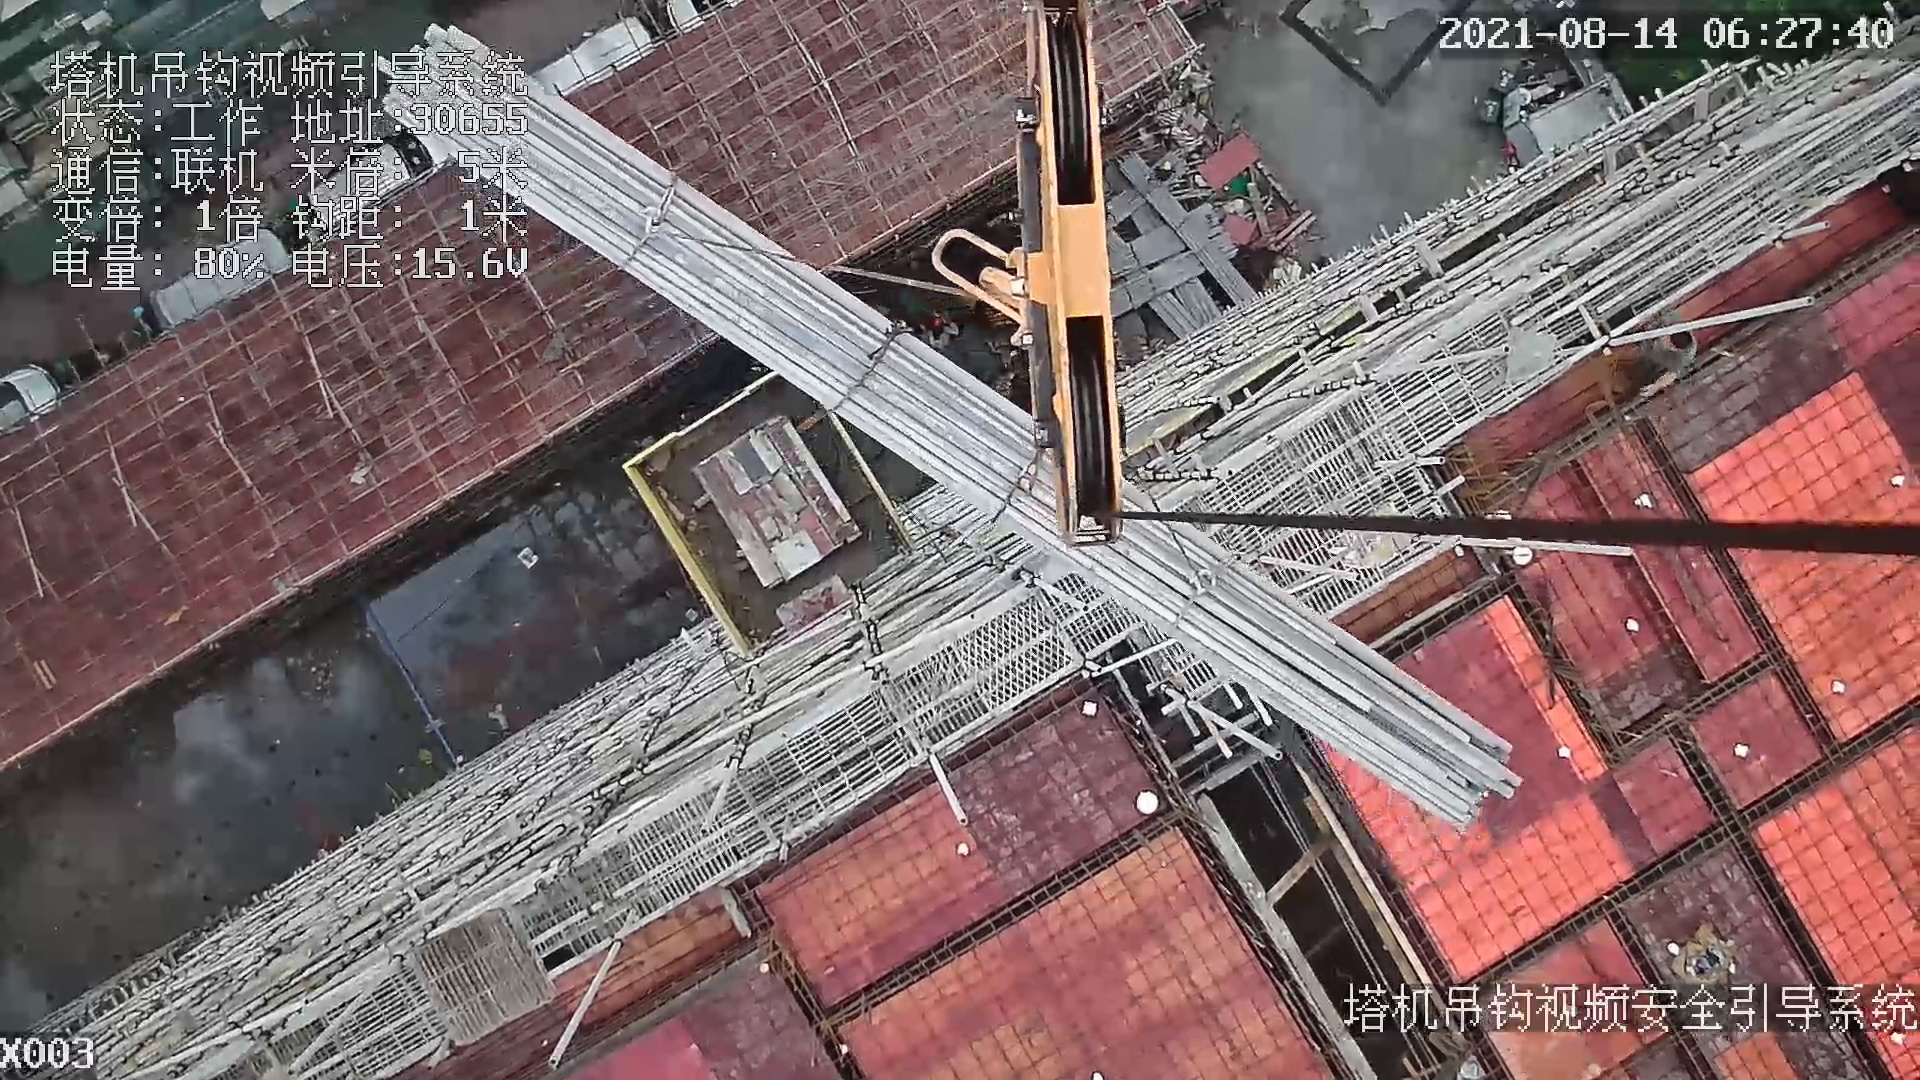hook: (1003, 1, 1133, 550)
person: (1646, 308, 1695, 404)
